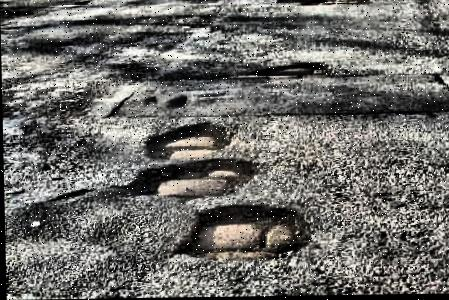pothole: (169, 202, 311, 263), (120, 157, 258, 200), (142, 120, 233, 158), (244, 60, 333, 79), (299, 0, 373, 8)
